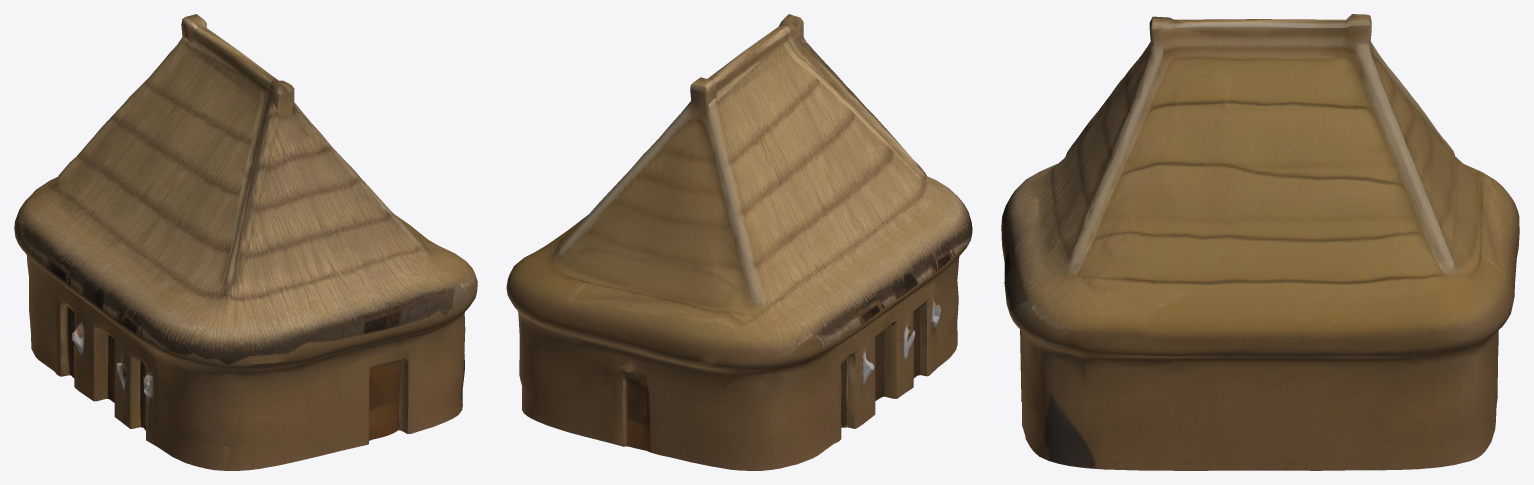
Rendered from etiopia_establo.glb.
3 views of the same model, side by side, from view 1: azimuth 30°, elevation 25°; view 2: azimuth 150°, elevation 25°; view 3: azimuth 270°, elevation 25° (orthographic). The views are drawn at different scales.
Visible parts, largest first — view 1: geometry_0; view 2: geometry_0; view 3: geometry_0.
Boxes of the visible parts, x1=… form: geometry_0: x1=14, y1=14, x2=477, y2=470; geometry_0: x1=506, y1=14, x2=972, y2=470; geometry_0: x1=1001, y1=14, x2=1519, y2=470.
Size of the model in its own units: 1.91 by 1.89 by 2.4.
1 material, 1 textured.
